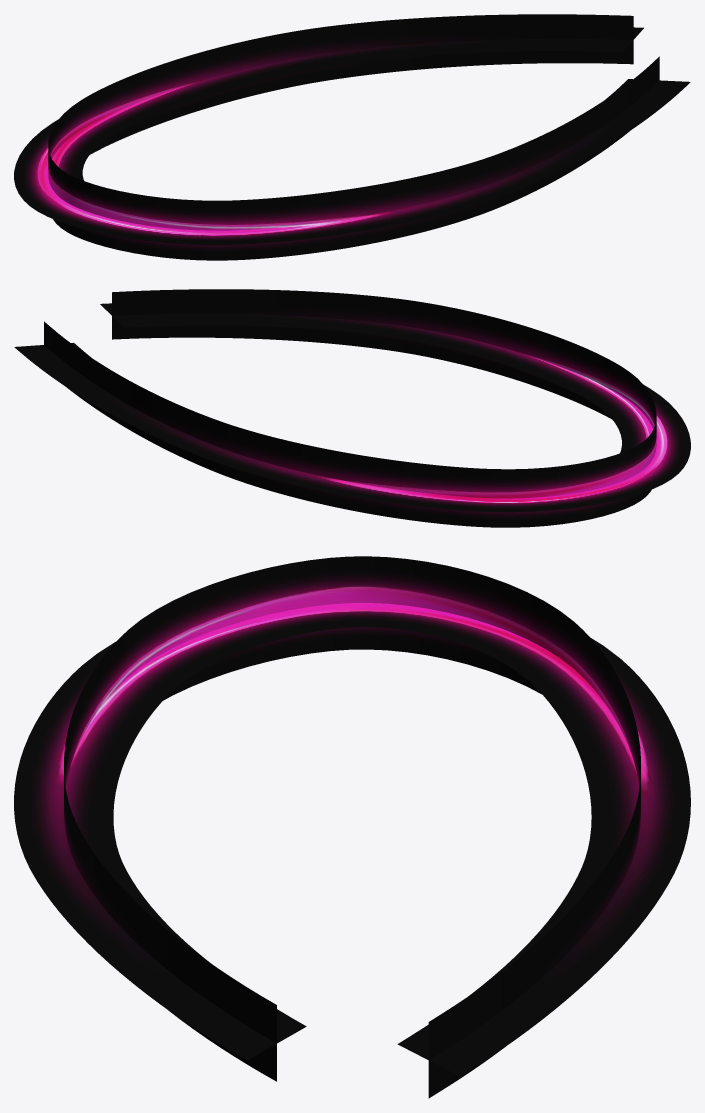
The model's file is 0301_guangyun_M.glb.
3 renders of one model, top to bottom at view 1: azimuth 30°, elevation 25°; view 2: azimuth 150°, elevation 25°; view 3: azimuth 270°, elevation 25°, orthographic. The views are drawn at different scales.
Size of the model in its own units: 2.2 by 0.1957 by 1.26.
1 material, 1 textured.
